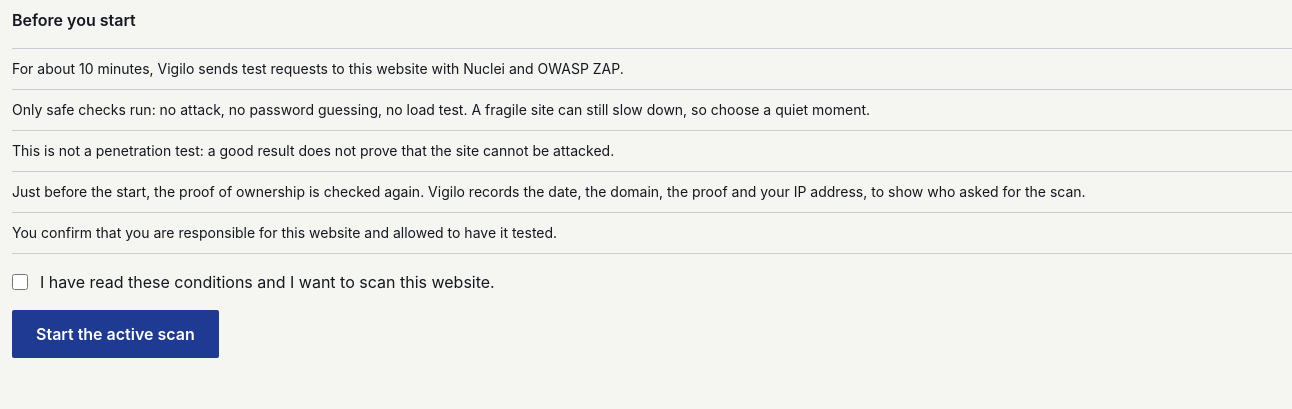
Test case: ActiveScan › does not start before the conditions are accepted
This screenshot has width=1292, height=409.
Check: the list item "For about 10 minutes, Vigilo sends test requests to this website with Nuclei and OWASP ZAP." is shown, box [12,60,624,77]
Check: the list item "Only safe checks run: no attack, no password guessing, no load test. A fragile site can still slow down, so choose a qui" is shown, box [12,101,870,118]
Click the button "Start the active scan". click: (115, 334)
box: [12,310,219,358]
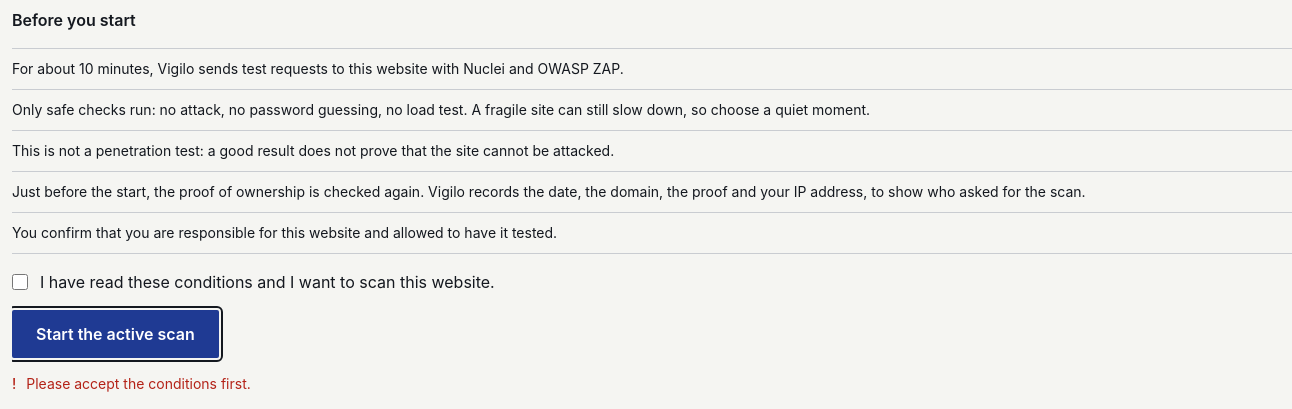
Check: the message shows "Please accept the conditions first.", box [26,375,251,392]
